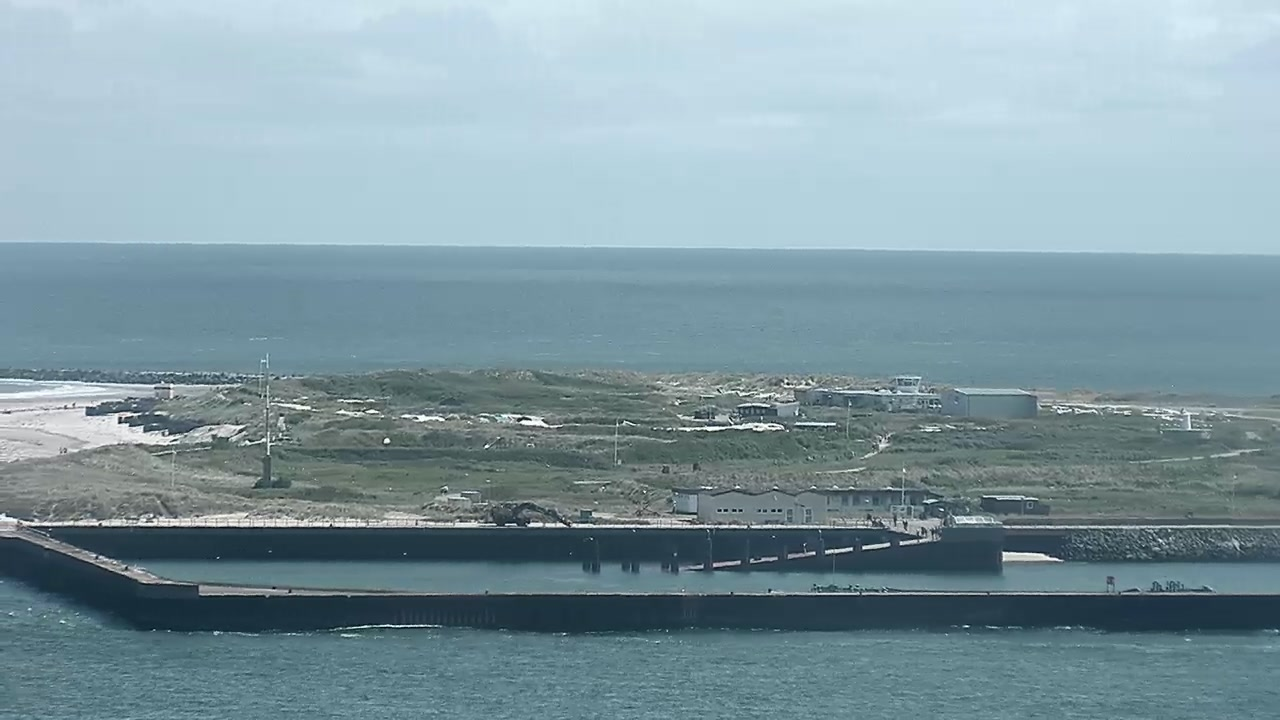human: (892, 512, 898, 527), (929, 526, 935, 541), (933, 526, 939, 541), (920, 525, 926, 538), (902, 519, 908, 531), (63, 446, 68, 454), (58, 445, 62, 455), (72, 400, 76, 408)
land: (488, 500, 572, 527)
